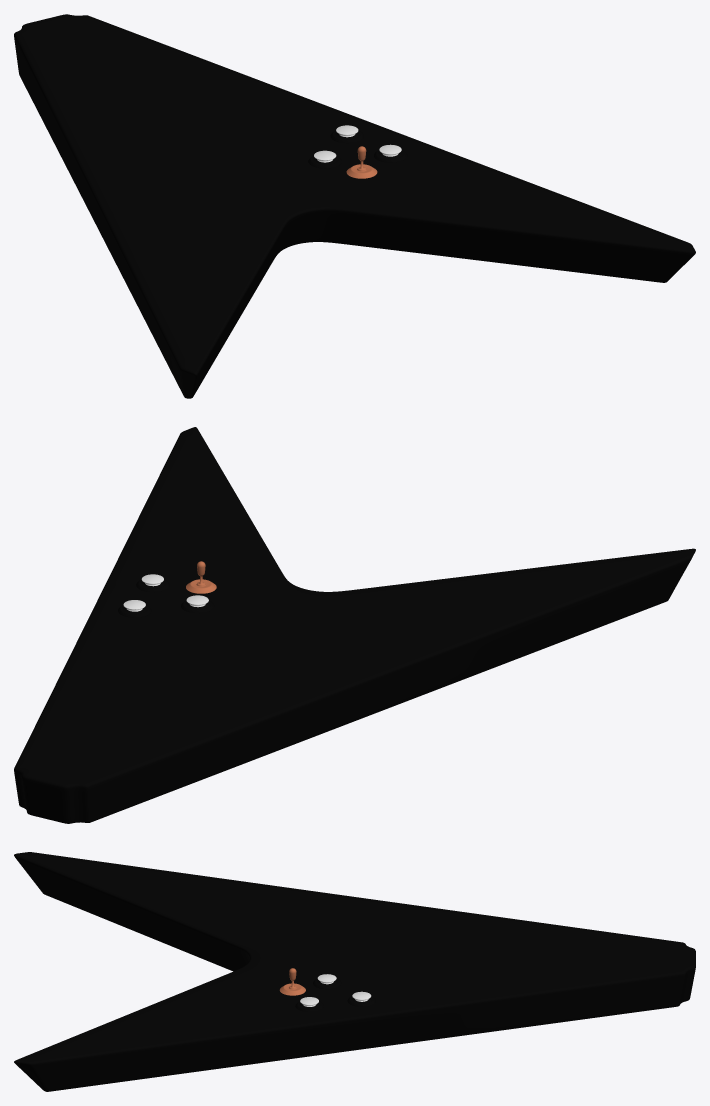
The model's file is Guitarra_V_Alder.glb.
The picture shows the model from 3 angles, top to bottom: view 1: azimuth 30°, elevation 25°; view 2: azimuth 150°, elevation 25°; view 3: azimuth 270°, elevation 25°; orthographic projection. The views are drawn at different scales.
Parts seen in each view (by area): view 1: Guitarra_V_Alder; view 2: Guitarra_V_Alder; view 3: Guitarra_V_Alder.
Boxes of the visible parts, x1,y1,x2,y2 form: Guitarra_V_Alder: (14, 14, 695, 398); Guitarra_V_Alder: (14, 427, 695, 823); Guitarra_V_Alder: (14, 852, 695, 1091).
Bounding box in the file's own units: 1.98 × 0.2508 × 2.7.
Materials: 4 (1 with a texture image).
